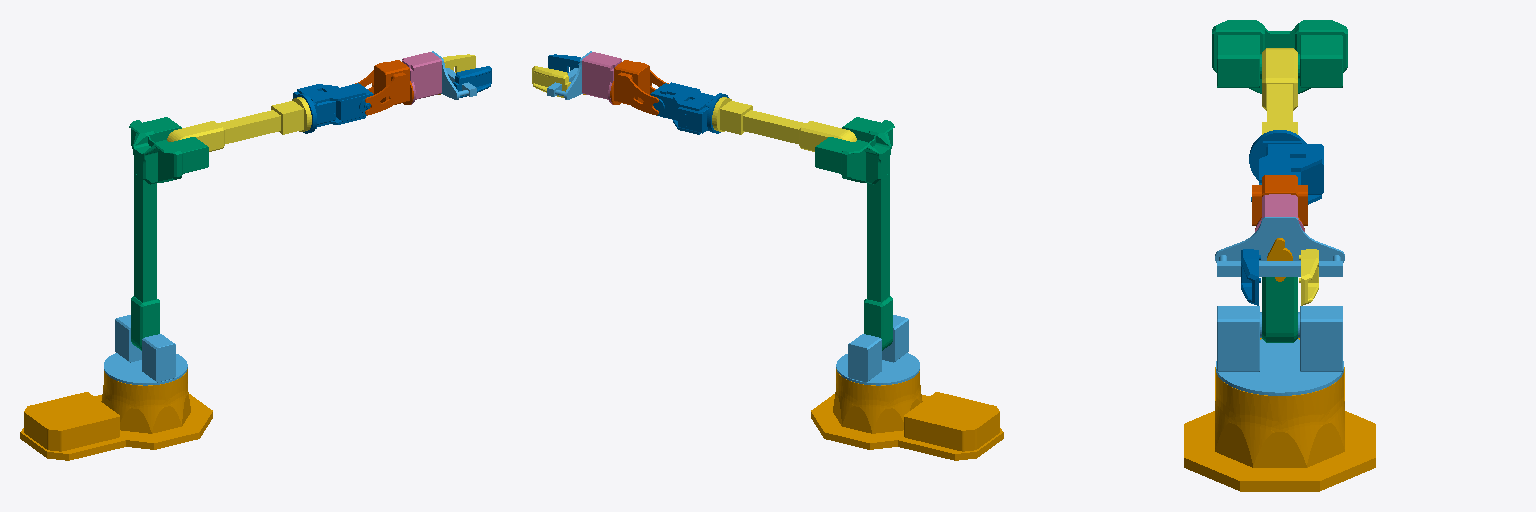
robot.urdf — wx250s:
<?xml version='1.0' encoding='utf-8'?>
<robot name="wx250s">
  <link name="base_link">
    <visual>
      <origin rpy="0 0 1.5707963267948966" xyz="0 0 0" />
      <geometry>
        <mesh filename="scale_wx250s/WXSA-250-M-1-Base.obj" scale="1 1 1" />
      </geometry>
    </visual>
    <collision>
      <origin rpy="0 0 1.5707963267948966" xyz="0 0 0" />
      <geometry>
        <mesh filename="scale_wx250s/WXSA-250-M-1-Base.stl" scale="1 1 1" />
      </geometry>
    </collision>
    <inertial>
      <origin rpy="0 0 1.5707963267948966" xyz="-0.0380446000 0.0006138920 0.0193354000" />
      <mass value="0.538736" />
      <inertia ixx="0.0021150000" ixy="-0.0000163500" ixz="0.0000006998" iyy="0.0006921000" iyz="0.0000464200" izz="0.0025240000" />
    </inertial>
  </link>
  <joint name="waist" type="revolute">
    <axis xyz="0 0 1" />
    <limit effort="10" lower="-3.141592653589793" upper="3.141592653589793" velocity="3.141592653589793" />
    <origin rpy="0 0 0" xyz="0 0 0.072" />
    <parent link="base_link" />
    <child link="shoulder_link" />
  </joint>
  
  <link name="shoulder_link">
    <visual>
      <origin rpy="0 0 1.5707963267948966" xyz="0 0 -0.003" />
      <geometry>
        <mesh filename="scale_wx250s/WXSA-250-M-2-Shoulder.obj" scale="1 1 1" />
      </geometry>
    </visual>
    <collision>
      <origin rpy="0 0 1.5707963267948966" xyz="0 0 -0.003" />
      <geometry>
        <mesh filename="scale_wx250s/WXSA-250-M-2-Shoulder.stl" scale="1 1 1" />
      </geometry>
    </collision>
    <inertial>
      <origin rpy="0 0 1.5707963267948966" xyz="0.0000223482 0.0000414609 0.0066287000" />
      <mass value="0.480879" />
      <inertia ixx="0.0003790000" ixy="0.0000000022" ixz="-0.0000003561" iyy="0.0005557000" iyz="0.0000012245" izz="0.0005889000" />
    </inertial>
  </link>
  <joint name="shoulder" type="revolute">
    <axis xyz="0 1 0" />
    <limit effort="20" lower="-1.8849555921538759" upper="1.9896753472735358" velocity="3.141592653589793" />
    <origin rpy="0 0 0" xyz="0 0 0.03865" />
    <parent link="shoulder_link" />
    <child link="upper_arm_link" />
  </joint>
  
  <link name="upper_arm_link">
    <visual>
      <origin rpy="0 0 1.5707963267948966" xyz="0 0 0" />
      <geometry>
        <mesh filename="scale_wx250s/WXSA-250-M-3-UA.obj" scale="1 1 1" />
      </geometry>
    </visual>
    <collision>
      <origin rpy="0 0 1.5707963267948966" xyz="0 0 0" />
      <geometry>
        <mesh filename="scale_wx250s/WXSA-250-M-3-UA.stl" scale="1 1 1" />
      </geometry>
    </collision>
    <inertial>
      <origin rpy="0 0 1.5707963267948966" xyz="0.0171605000 0.0000002725 0.1913230000" />
      <mass value="0.430811" />
      <inertia ixx="0.0034630000" ixy="-0.0000000001" ixz="-0.0000000002" iyy="0.0035870000" iyz="0.0004272000" izz="0.0004566000" />
    </inertial>
  </link>
  <joint name="elbow" type="revolute">
    <axis xyz="0 1 0" />
    <limit effort="15" lower="-2.1467549799530254" upper="1.6057029118347832" velocity="3.141592653589793" />
    <origin rpy="0 0 0" xyz="0.04975 0 0.25" />
    <parent link="upper_arm_link" />
    <child link="upper_forearm_link" />
  </joint>
  
  <link name="upper_forearm_link">
    <visual>
      <origin rpy="0 0 0" xyz="0 0 0" />
      <geometry>
        <mesh filename="scale_wx250s/WXSA-250-M-4-UF.obj" scale="1 1 1" />
      </geometry>
    </visual>
    <collision>
      <origin rpy="0 0 0" xyz="0 0 0" />
      <geometry>
        <mesh filename="scale_wx250s/WXSA-250-M-4-UF.stl" scale="1 1 1" />
      </geometry>
    </collision>
    <inertial>
      <origin rpy="0 0 0" xyz="0.1079630000 0.0001158760 0" />
      <mass value="0.234589" />
      <inertia ixx="0.0000397100" ixy="0.0000023528" ixz="0" iyy="0.0008878000" iyz="0" izz="0.0008880000" />
    </inertial>
  </link>
  <joint name="forearm_roll" type="revolute">
    <axis xyz="1 0 0" />
    <limit effort="2" lower="-3.141582653589793" upper="3.141582653589793" velocity="3.141592653589793" />
    <origin rpy="0 0 0" xyz="0.175 0 0" />
    <parent link="upper_forearm_link" />
    <child link="lower_forearm_link" />
  </joint>
  
  <link name="lower_forearm_link">
    <visual>
      <origin rpy="3.141592653589793 0 0" xyz="0 0 0" />
      <geometry>
        <mesh filename="scale_wx250s/WXSA-250-M-5-LF.obj" scale="1 1 1" />
      </geometry>
    </visual>
    <collision>
      <origin rpy="3.141592653589793 0 0" xyz="0 0 0" />
      <geometry>
        <mesh filename="scale_wx250s/WXSA-250-M-5-LF.stl" scale="1 1 1" />
      </geometry>
    </collision>
    <inertial>
      <origin rpy="3.141592653589793 0 0" xyz="0.0374395000 0.0052225200 0" />
      <mass value="0.220991" />
      <inertia ixx="0.0000636900" ixy="-0.0000229200" ixz="0" iyy="0.0001677000" iyz="0" izz="0.0001834000" />
    </inertial>
  </link>
  <joint name="wrist_angle" type="revolute">
    <axis xyz="0 1 0" />
    <limit effort="5" lower="-1.7453292519943295" upper="2.1467549799530254" velocity="3.141592653589793" />
    <origin rpy="0 0 0" xyz="0.075 0 0" />
    <parent link="lower_forearm_link" />
    <child link="wrist_link" />
  </joint>
  
  <link name="wrist_link">
    <visual>
      <origin rpy="0 0 1.5707963267948966" xyz="0 0 0" />
      <geometry>
        <mesh filename="scale_wx250s/WXSA-250-M-6-Wrist.obj" scale="1 1 1" />
      </geometry>
    </visual>
    <collision>
      <origin rpy="0 0 1.5707963267948966" xyz="0 0 0" />
      <geometry>
        <mesh filename="scale_wx250s/WXSA-250-M-6-Wrist.stl" scale="1 1 1" />
      </geometry>
    </collision>
    <inertial>
      <origin rpy="0 0 1.5707963267948966" xyz="0.0423600000 -0.0000106630 0.0105770000" />
      <mass value="0.084957" />
      <inertia ixx="0.0000308200" ixy="0.0000000191" ixz="0.0000000023" iyy="0.0000282200" iyz="0.0000025481" izz="0.0000315200" />
    </inertial>
  </link>
  <joint name="wrist_rotate" type="revolute">
    <axis xyz="1 0 0" />
    <limit effort="1" lower="-3.141582653589793" upper="3.141582653589793" velocity="3.141592653589793" />
    <origin rpy="0 0 0" xyz="0.065 0 0" />
    <parent link="wrist_link" />
    <child link="gripper_link" />
  </joint>
  
  <link name="gripper_link">
    <visual>
      <origin rpy="0 0 1.5707963267948966" xyz="-0.02 0 0" />
      <geometry>
        <mesh filename="scale_wx250s/WXSA-250-M-7-Gripper.obj" scale="1 1 1" />
      </geometry>
    </visual>
    <collision>
      <origin rpy="0 0 1.5707963267948966" xyz="-0.02 0 0" />
      <geometry>
        <mesh filename="scale_wx250s/WXSA-250-M-7-Gripper.stl" scale="1 1 1" />
      </geometry>
    </collision>
    <inertial>
      <origin rpy="0 0 1.5707963267948966" xyz="0.0216310000 0.0000002516 0.0114100000" />
      <mass value="0.072885" />
      <inertia ixx="0.0000253700" ixy="0.0000000000" ixz="0.0000000000" iyy="0.0000183600" iyz="0.0000004340" izz="0.0000167400" />
    </inertial>
  </link>
  <joint name="ee_arm" type="fixed">
    <axis xyz="1 0 0" />
    <origin rpy="0 0 0" xyz="0.043 0 0" />
    <parent link="gripper_link" />
    <child link="ee_arm_link" />
  </joint>
  <link name="ee_arm_link">
    <inertial>
      <mass value="0.001" />
      <inertia ixx="0.001" ixy="0" ixz="0" iyy="0.001" iyz="0" izz="0.001" />
    </inertial>
  </link>
  <joint name="gripper" type="fixed">
    <axis xyz="1 0 0" />
    
    <origin rpy="0 0 0" xyz="0.0055 0 0" />
    <parent link="ee_arm_link" />
    <child link="gripper_prop_link" />
  </joint>
  
  <link name="gripper_prop_link">
    <visual>
      <origin rpy="0 0 1.5707963267948966" xyz="-0.0685 0 0" />
      <geometry>
        <mesh filename="scale_wx250s/WXSA-250-M-8-Gripper-Prop.obj" scale="1 1 1" />
      </geometry>
    </visual>
    <collision>
      <origin rpy="0 0 1.5707963267948966" xyz="-0.0685 0 0" />
      <geometry>
        <mesh filename="scale_wx250s/WXSA-250-M-8-Gripper-Prop.stl" scale="1 1 1" />
      </geometry>
    </collision>
    <inertial>
      <origin rpy="0 0 1.5707963267948966" xyz="0.0008460000 -0.0000016817 0.0000420000" />
      <mass value="0.00434" />
      <inertia ixx="0.0000005923" ixy="0.0000000000" ixz="0.0000003195" iyy="0.0000011156" iyz="-0.0000000004" izz="0.0000005743" />
    </inertial>
  </link>
  
  <joint name="gripper_bar" type="fixed">
    <axis xyz="1 0 0" />
    <origin rpy="0 0 0" xyz="0 0 0" />
    <parent link="ee_arm_link" />
    <child link="gripper_bar_link" />
  </joint>
  <link name="gripper_bar_link">
    <visual>
      <origin rpy="0 0 1.5707963267948966" xyz="-0.063 0 0" />
      <geometry>
        <mesh filename="scale_wx250s/WXSA-250-M-9-Gripper-Bar.obj" scale="1 1 1" />
      </geometry>
    </visual>
    <collision>
      <origin rpy="0 0 1.5707963267948966" xyz="-0.063 0 0" />
      <geometry>
        <mesh filename="scale_wx250s/WXSA-250-M-9-Gripper-Bar.stl" scale="1 1 1" />
      </geometry>
    </collision>
    <inertial>
      <origin rpy="0 0 1.5707963267948966" xyz="0.0096870000 0.0000008177 0.0049620000" />
      <mass value="0.034199" />
      <inertia ixx="0.0000074125" ixy="-0.0000000008" ixz="-0.0000000006" iyy="0.0000284300" iyz="-0.0000013889" izz="0.0000286000" />
    </inertial>
  </link>
  <joint name="ee_bar" type="fixed">
    <axis xyz="1 0 0" />
    <origin rpy="0 0 0" xyz="0.023 0 0" />
    <parent link="gripper_bar_link" />
    <child link="fingers_link" />
  </joint>
  <link name="fingers_link">
    <inertial>
      <mass value="0.001" />
      <inertia ixx="0.001" ixy="0" ixz="0" iyy="0.001" iyz="0" izz="0.001" />
    </inertial>
  </link>
  
  <joint name="left_finger" type="prismatic">
    <axis xyz="0 1 0" />
    <limit effort="5" lower="0.015" upper="0.037" velocity="1" />
    <origin rpy="0 0 0" xyz="0 0 0" />
    <parent link="fingers_link" />
    <child link="left_finger_link" />
  </joint>
  
  <link name="left_finger_link">
    <visual>
      <origin rpy="3.141592653589793 3.141592653589793 0" xyz="0 0.005 0" />
      <geometry>
        <mesh filename="scale_wx250s/WXSA-250-M-10-Finger.obj" scale="1 1 1" />
      </geometry>
    </visual>
    <collision>
      <origin rpy="3.141592653589793 3.141592653589793 0" xyz="0 0.005 0" />
      <geometry>
        <mesh filename="scale_wx250s/WXSA-250-M-10-Finger.stl" scale="1 1 1" />
      </geometry>
    </collision>
    <inertial>
      <origin rpy="3.141592653589793 3.141592653589793 1.5707963267948966" xyz="0.0138160000 0.0000000000 0.0000000000" />
      <mass value="0.016246" />
      <inertia ixx="0.0000047310" ixy="-0.0000004560" ixz="0.0000000000" iyy="0.0000015506" iyz="0.0000000000" izz="0.0000037467" />
    </inertial>
  </link>
  <joint name="right_finger" type="prismatic">
    <axis xyz="0 -1 0" />
    <limit effort="5" lower="0.015" upper="0.037" velocity="1" />
    <origin rpy="0 0 0" xyz="0 0 0" />
    <parent link="fingers_link" />
    <child link="right_finger_link" />
    <mimic joint="left_finger" multiplier="1" offset="0" />
  </joint>
  
  <link name="right_finger_link">
    <visual>
      <origin rpy="0 3.141592653589793 0" xyz="0 -0.005 0" />
      <geometry>
        <mesh filename="scale_wx250s/WXSA-250-M-10-Finger.obj" scale="1 1 1" />
      </geometry>
    </visual>
    <collision>
      <origin rpy="0 3.141592653589793 0" xyz="0 -0.005 0" />
      <geometry>
        <mesh filename="scale_wx250s/WXSA-250-M-10-Finger.stl" scale="1 1 1" />
      </geometry>
    </collision>
    <inertial>
      <origin rpy="0 3.141592653589793 1.5707963267948966" xyz="0.0138160000 0.0000000000  0.0000000000" />
      <mass value="0.016246" />
      <inertia ixx="0.0000047310" ixy="0.0000004560" ixz="0.0000000000" iyy="0.0000015506" iyz="0.0000000000" izz="0.0000037467" />
    </inertial>
  </link>
  <joint name="ee_gripper" type="fixed">
    <axis xyz="1 0 0" />
    <origin rpy="0 0 0" xyz="0.027575 0 0" />
    <parent link="fingers_link" />
    <child link="ee_gripper_link" />
  </joint>
  <link name="ee_gripper_link">
    <inertial>
      <mass value="0.001" />
      <inertia ixx="0.001" ixy="0" ixz="0" iyy="0.001" iyz="0" izz="0.001" />
    </inertial>
  </link>
</robot>

--- Facts derived from the render (not from the file) ---
The picture shows the robot from 3 angles, left to right: view 1: azimuth 30°, elevation 25°; view 2: azimuth 150°, elevation 25°; view 3: azimuth 270°, elevation 25°; orthographic projection.
Robot: wx250s — 14 links, 13 joints (6 revolute, 2 prismatic, 5 fixed); root link base_link; default pose: all joints at 0 but 2 set to mid-range because 0 is outside their limits (left_finger = 0.026, right_finger = 0.026).
Visible links, largest first — view 1: base_link, upper_arm_link, shoulder_link, upper_forearm_link, lower_forearm_link, wrist_link, gripper_link, right_finger_link, gripper_bar_link; view 2: base_link, upper_arm_link, shoulder_link, upper_forearm_link, lower_forearm_link, wrist_link, gripper_link, left_finger_link, gripper_bar_link; view 3: base_link, upper_arm_link, shoulder_link, gripper_bar_link, lower_forearm_link, upper_forearm_link, wrist_link, left_finger_link, right_finger_link, gripper_link.
Link boxes in pixels (x1,y1,x2,y2): base_link: (20, 369, 212, 460); upper_arm_link: (129, 117, 208, 350); shoulder_link: (104, 315, 187, 385); upper_forearm_link: (167, 97, 311, 151); lower_forearm_link: (293, 83, 373, 133); wrist_link: (355, 60, 413, 115); gripper_link: (402, 52, 441, 104); right_finger_link: (453, 66, 491, 97); gripper_bar_link: (432, 51, 476, 99); base_link: (811, 369, 1003, 460); upper_arm_link: (815, 117, 894, 350); shoulder_link: (836, 315, 919, 385); upper_forearm_link: (712, 97, 856, 151); lower_forearm_link: (650, 82, 728, 134); wrist_link: (610, 60, 668, 115); gripper_link: (582, 52, 621, 104); left_finger_link: (532, 66, 570, 97); gripper_bar_link: (547, 51, 591, 99); base_link: (1184, 338, 1375, 491); upper_arm_link: (1212, 20, 1347, 342); shoulder_link: (1216, 306, 1343, 395); gripper_bar_link: (1215, 217, 1344, 276); lower_forearm_link: (1249, 130, 1323, 204); upper_forearm_link: (1262, 48, 1297, 134); wrist_link: (1252, 175, 1307, 228); left_finger_link: (1299, 249, 1318, 305); right_finger_link: (1241, 249, 1260, 305); gripper_link: (1255, 194, 1304, 231).
Bounding box of the posed robot: 0.6309 × 0.1531 × 0.3959 m (x, y, z).
11 mesh visuals loaded from 10 distinct referenced files (10 OBJ).